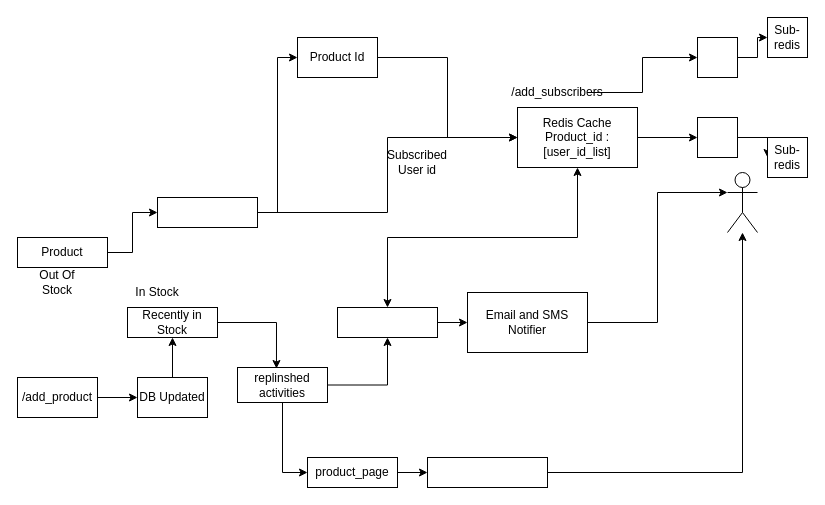
Some shapes in this 825 by 505 pixel diagram are drawn without their labels. The box of each missing label's shape, as (x1, y1, x2, y2) in pixels:
/get_subsribers: (336, 306, 438, 338)
add_banner: (426, 456, 548, 488)
Client: (726, 172, 758, 232)
Redis - 1: (696, 36, 738, 78)
Redis - 2: (696, 116, 738, 158)
Subscribe Btn: (156, 196, 258, 228)
